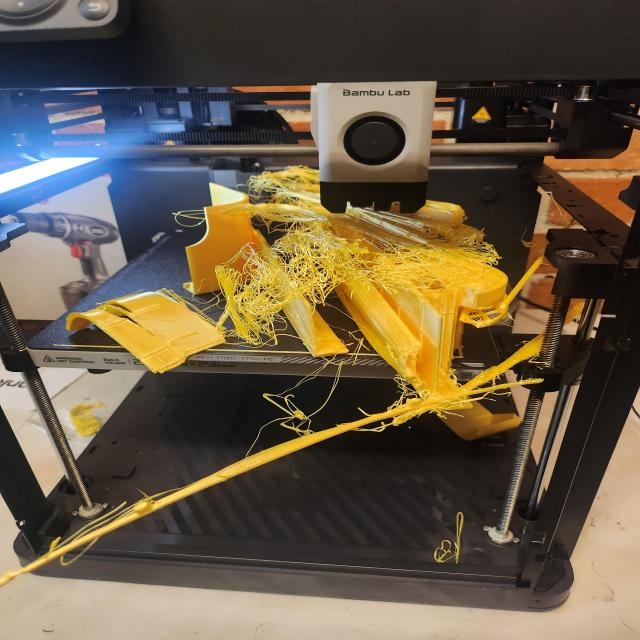spaghetti: (198, 226, 507, 347)
